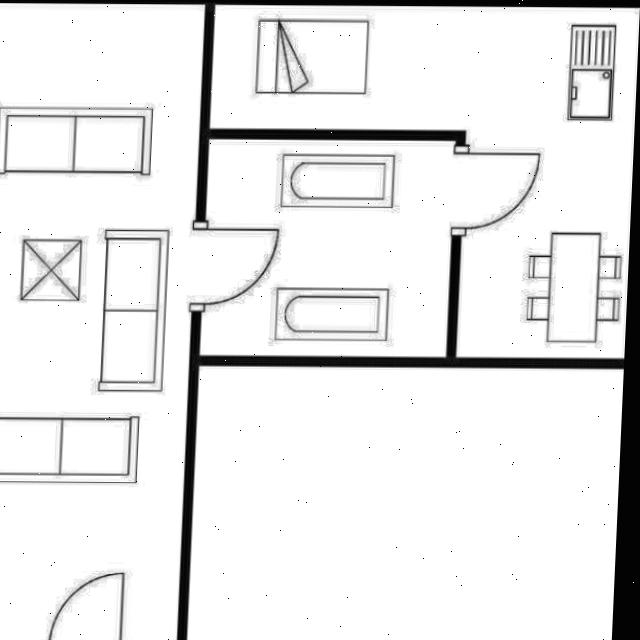room: (208, 4, 640, 358), (0, 2, 205, 640), (200, 138, 456, 356)
